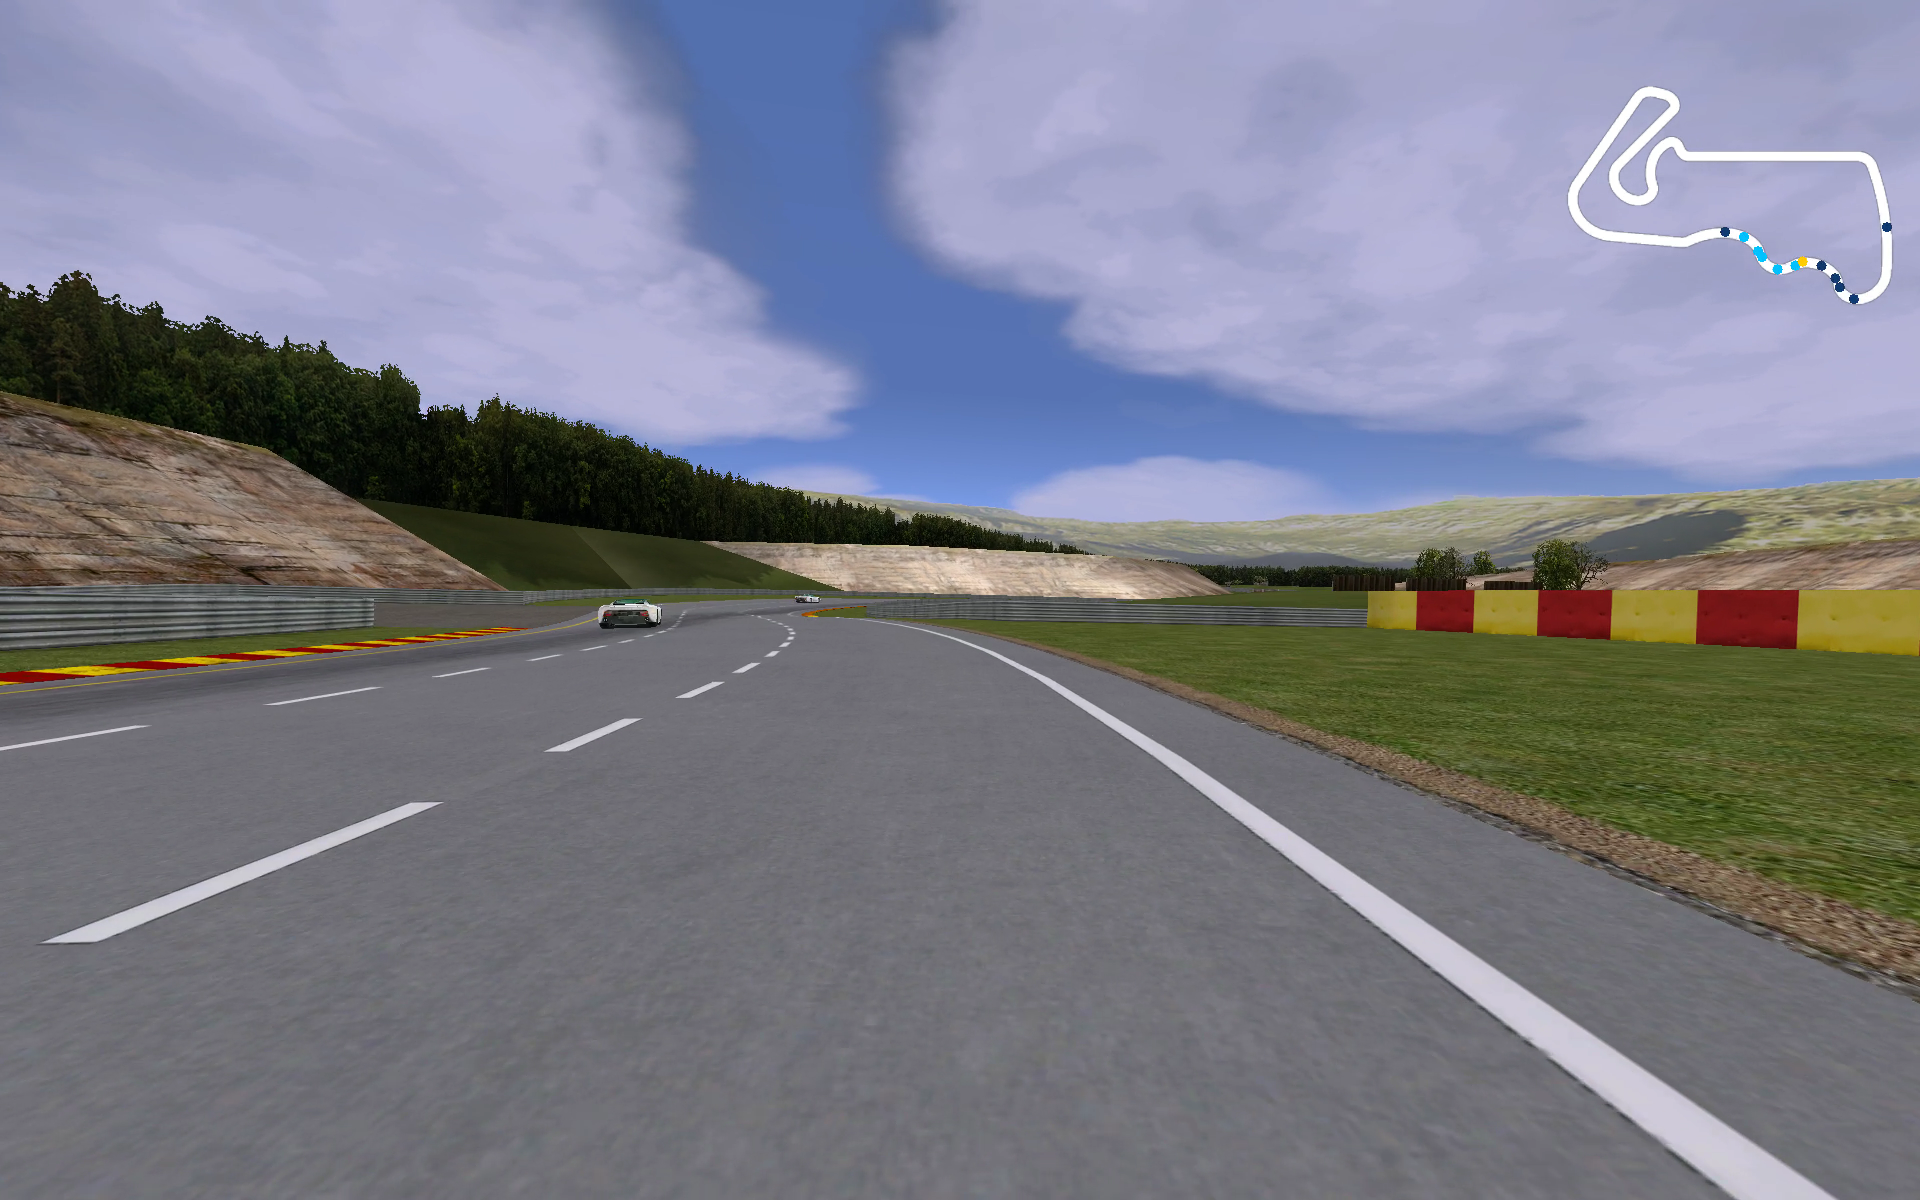car: (594, 594, 666, 632), (791, 590, 822, 606)
